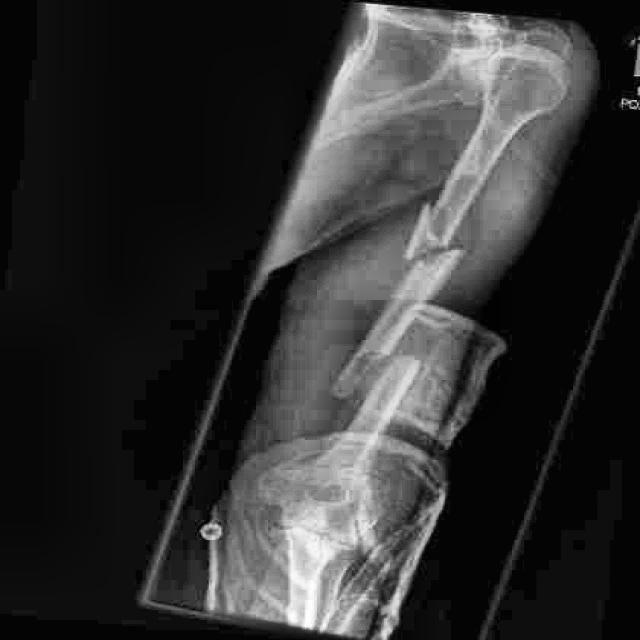humerus: (294, 176, 513, 437)
